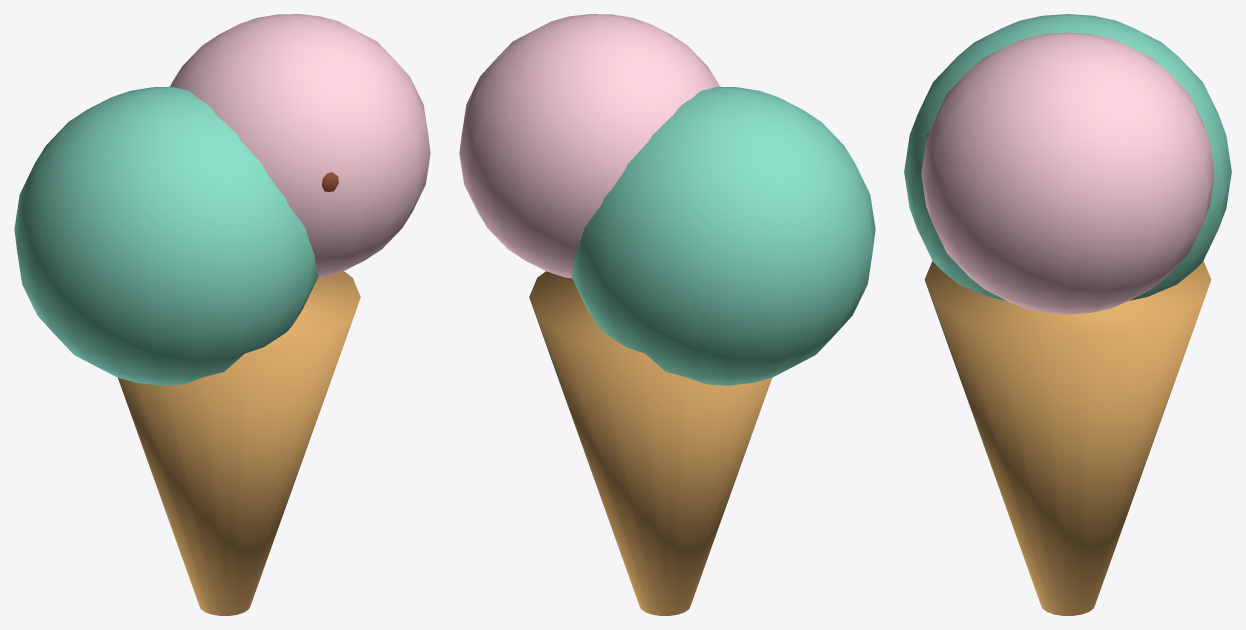
File: icecream.glb
3 views of the same model, side by side, from view 1: azimuth 30°, elevation 25°; view 2: azimuth 150°, elevation 25°; view 3: azimuth 270°, elevation 25° (orthographic). The views are drawn at different scales.
Parts seen in each view (by area): view 1: icecream; view 2: icecream; view 3: icecream.
Part boxes in pixels (x1,y1,x2,y2): icecream: [14, 14, 430, 615]; icecream: [459, 14, 875, 615]; icecream: [904, 14, 1231, 615].
Bounding box in the file's own units: 0.705 × 1 × 0.5013.
